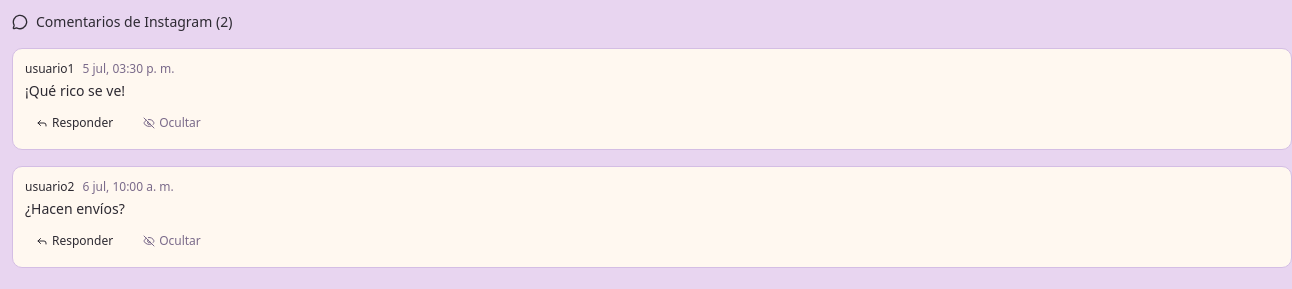
InstagramCommentManager › should show reply form when reply button is clicked
This screenshot has width=1292, height=289.
Expected: the text "¡Qué rico se ve!" is shown, [25,81,125,100]
What coordinates should you click on to do the following:
click the button "Responder" below "¡Qué rico se ve!"
I would click on:
 (75, 123)
Its box is [25,109,124,137].
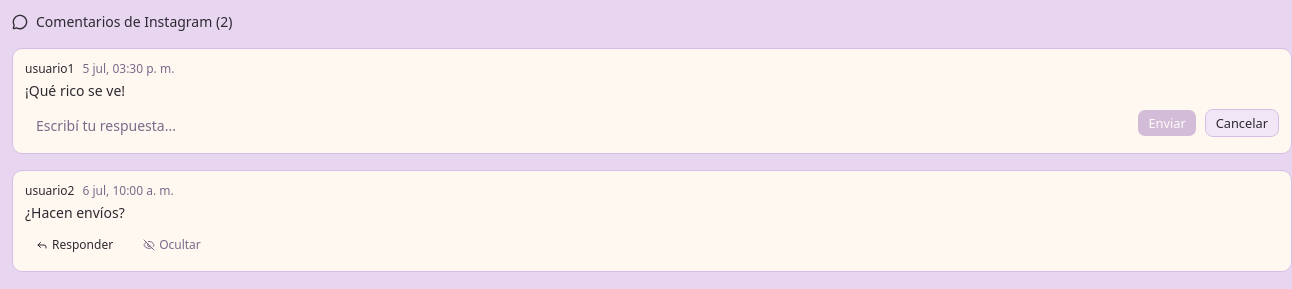
Now the field with placeholder "Escribí tu respuesta..." is shown, box [25,109,1129,141]
